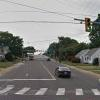Crosswalk: (7, 73, 99, 100)
